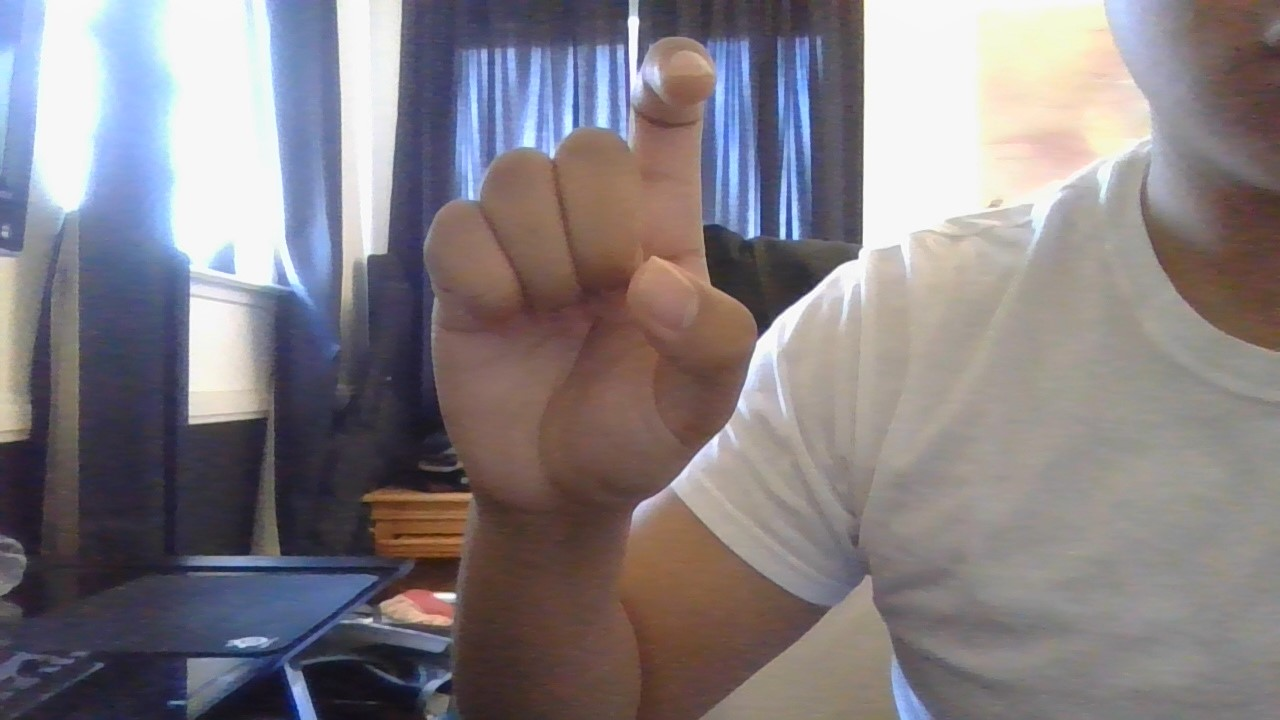x: (358, 33, 797, 545)
